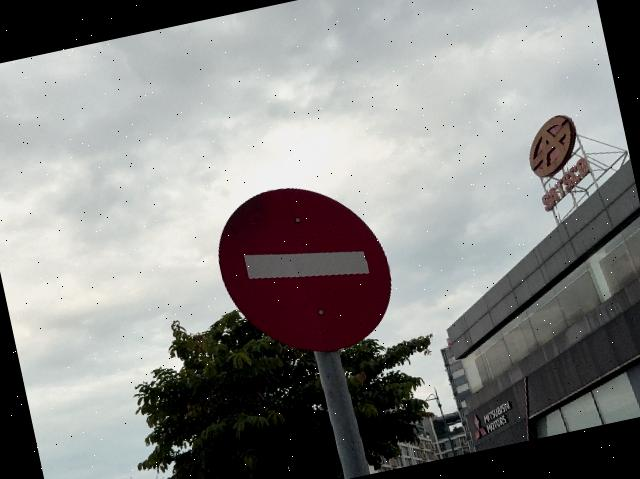cam-di-nguoc-chieu: (205, 169, 404, 370)
